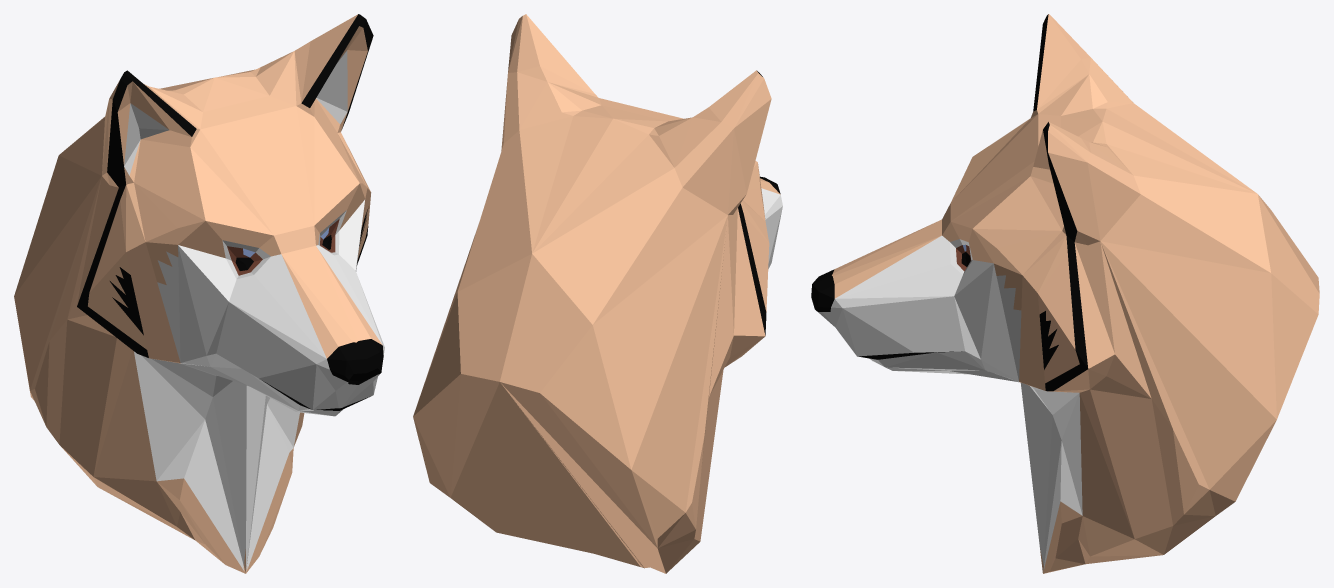
The model's file is wolf-correct-color.glb.
The picture shows the model from 3 angles, left to right: view 1: azimuth 30°, elevation 25°; view 2: azimuth 150°, elevation 25°; view 3: azimuth 270°, elevation 25°; orthographic projection. The views are drawn at different scales.
Parts seen in each view (by area): view 1: wolf head; view 2: wolf head; view 3: wolf head.
Boxes of the visible parts, x1,y1,x2,y2 form: wolf head: (14, 14, 384, 573); wolf head: (413, 14, 782, 573); wolf head: (811, 14, 1319, 573).
Size of the model in its own units: 15.13 by 26.36 by 24.
